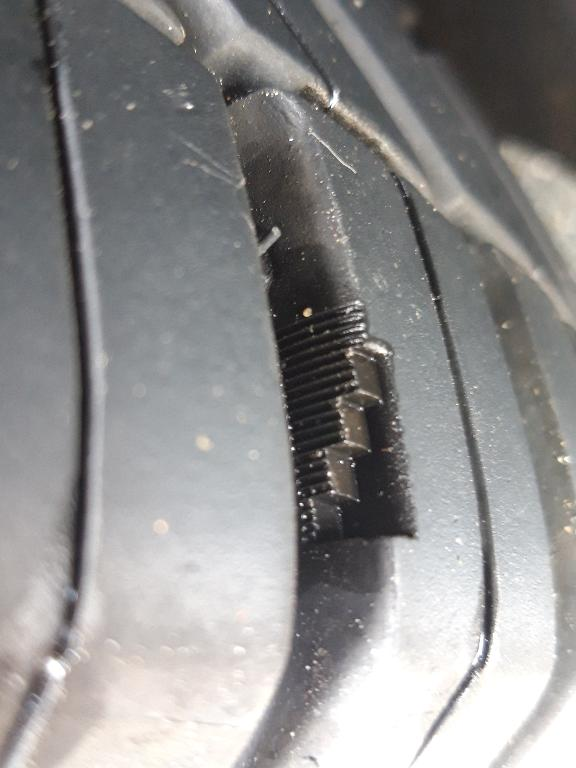temoin:90: (270, 296, 427, 562)
